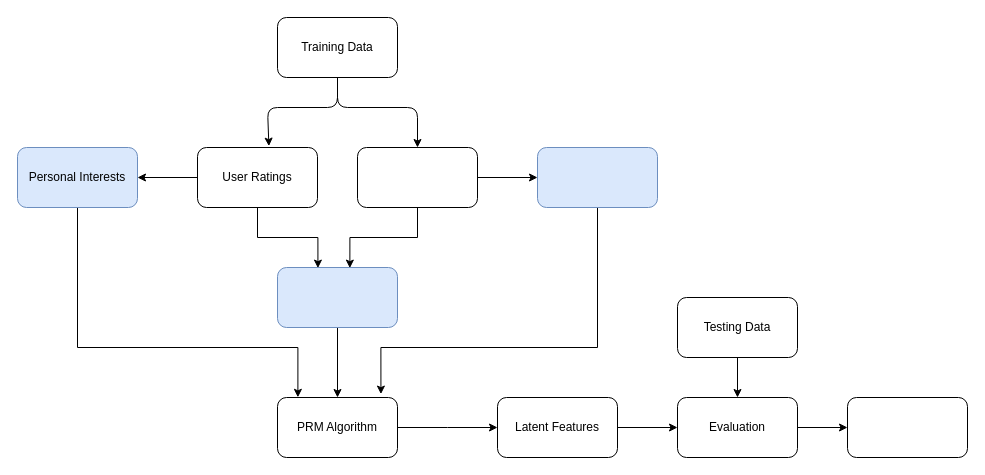
This 985x475 diagram has some shape labels left out. Each missing label, with the centre of its shape:
Interpersonal Influence: point 597,177
Interpersonal Interests Similarity: point 337,297
RMSE / MAE: point 907,427
Social Interaction Graph: point 417,177
